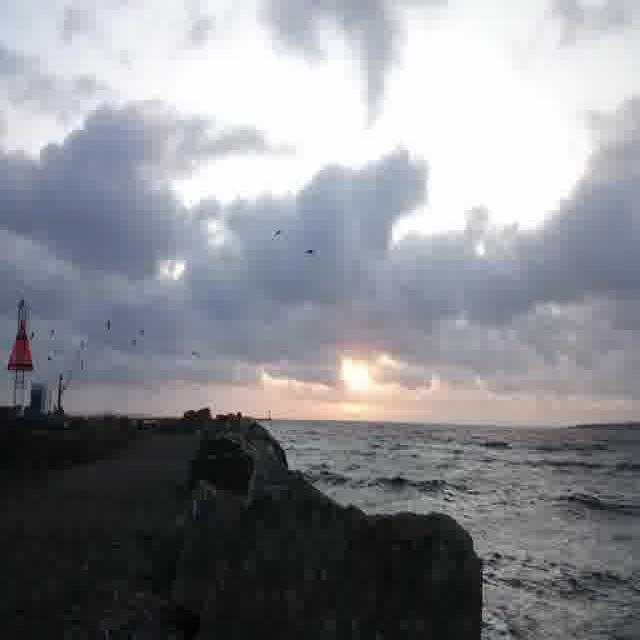bird: (186, 346, 202, 370), (137, 327, 155, 348), (302, 246, 322, 262), (268, 231, 287, 246), (127, 335, 137, 357), (40, 351, 56, 364), (105, 320, 116, 334)
